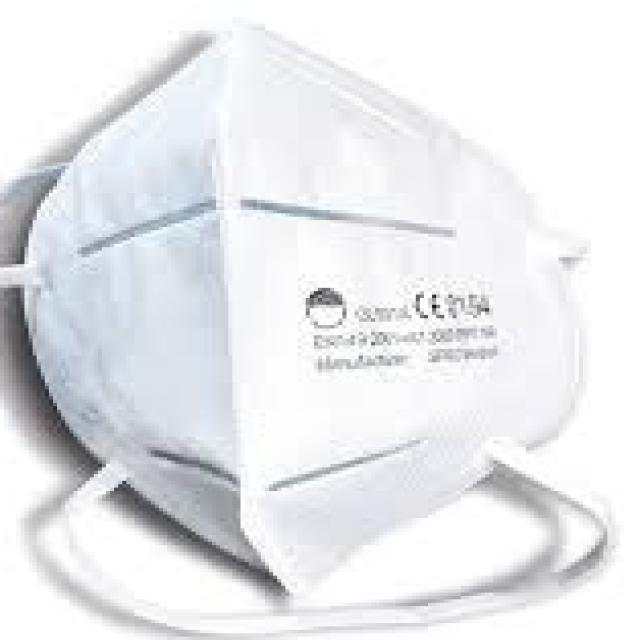organic: (50, 42, 584, 596)
